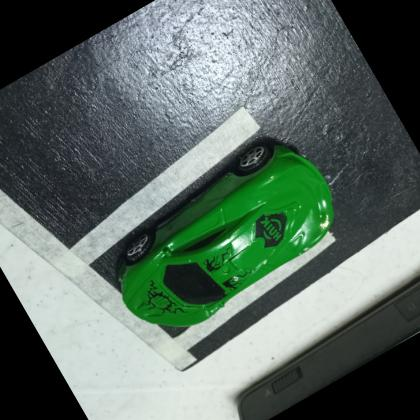Car: (87, 122, 358, 353)
